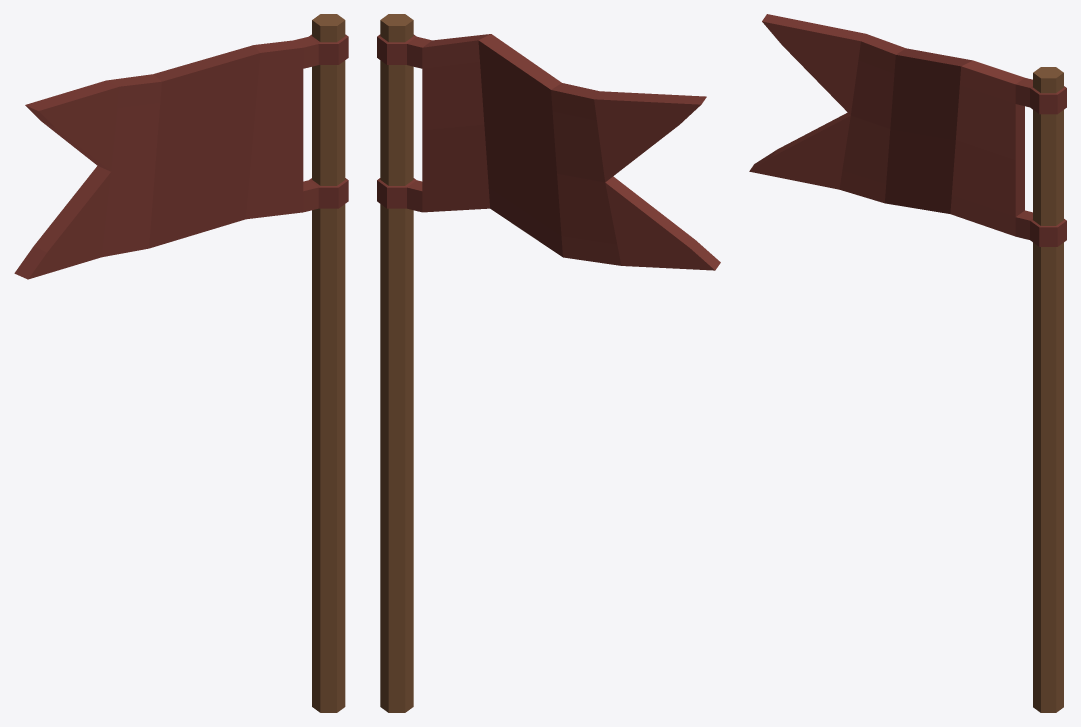
Rendered from flag.fbx.
The picture shows the model from 3 angles, left to right: view 1: azimuth 30°, elevation 25°; view 2: azimuth 150°, elevation 25°; view 3: azimuth 330°, elevation 25°; orthographic projection. The views are drawn at different scales.
Parts seen in each view (by area): view 1: Flag; view 2: Flag; view 3: Flag.
Boxes of the visible parts, left/top/right/bottom form: Flag: left=14, top=14, right=348, bottom=712; Flag: left=377, top=14, right=720, bottom=712; Flag: left=749, top=14, right=1066, bottom=712.
Size of the model in its own units: 0.5049 by 1 by 0.0683.
